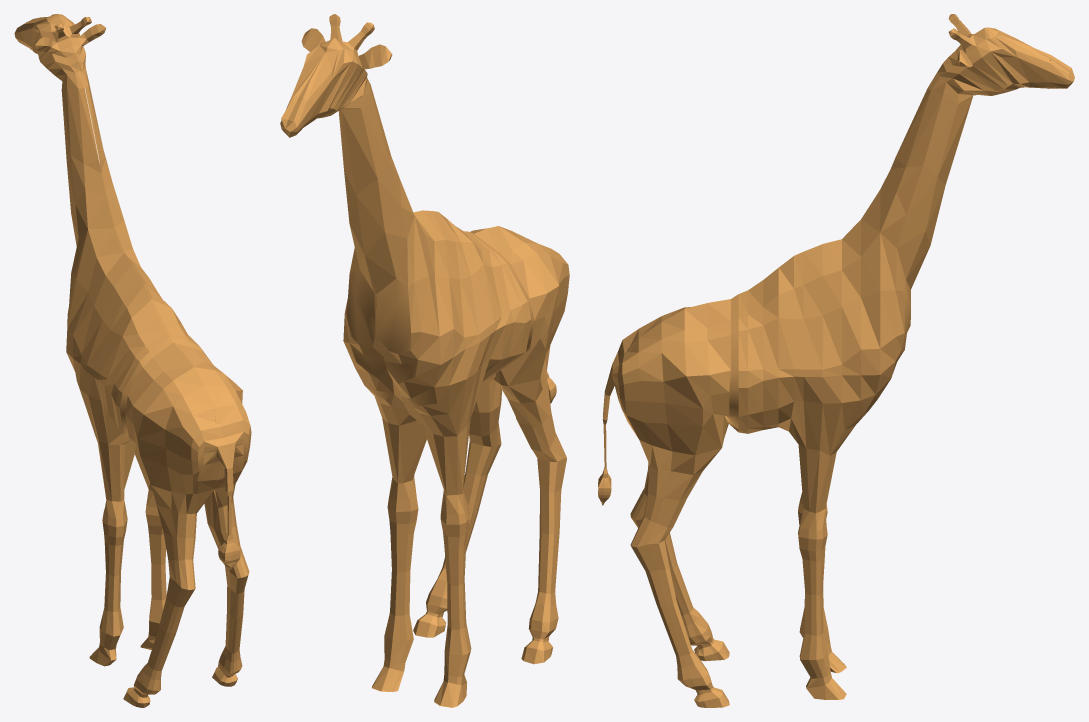
Rendered from giraffeA.gltf.
3 renders of one model, left to right at view 1: azimuth 30°, elevation 25°; view 2: azimuth 150°, elevation 25°; view 3: azimuth 270°, elevation 25°, orthographic. The views are drawn at different scales.
Parts seen in each view (by area): view 1: Box001, Box002; view 2: Box001, Box002; view 3: Box002, Box001.
Part boxes in pixels (x1=…): Box001: x1=14, y1=14, x2=232, y2=707; Box002: x1=26, y1=14, x2=251, y2=686; Box001: x1=281, y1=22, x2=569, y2=707; Box002: x1=280, y1=14, x2=501, y2=691; Box002: x1=598, y1=27, x2=1074, y2=707; Box001: x1=598, y1=14, x2=1071, y2=673.
Bounding box in the file's own units: 28.36 × 150 × 98.05.
